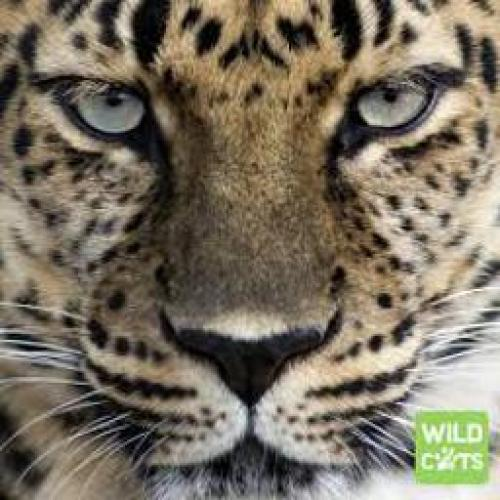amur_leopard-endangered: (6, 15, 487, 484)
